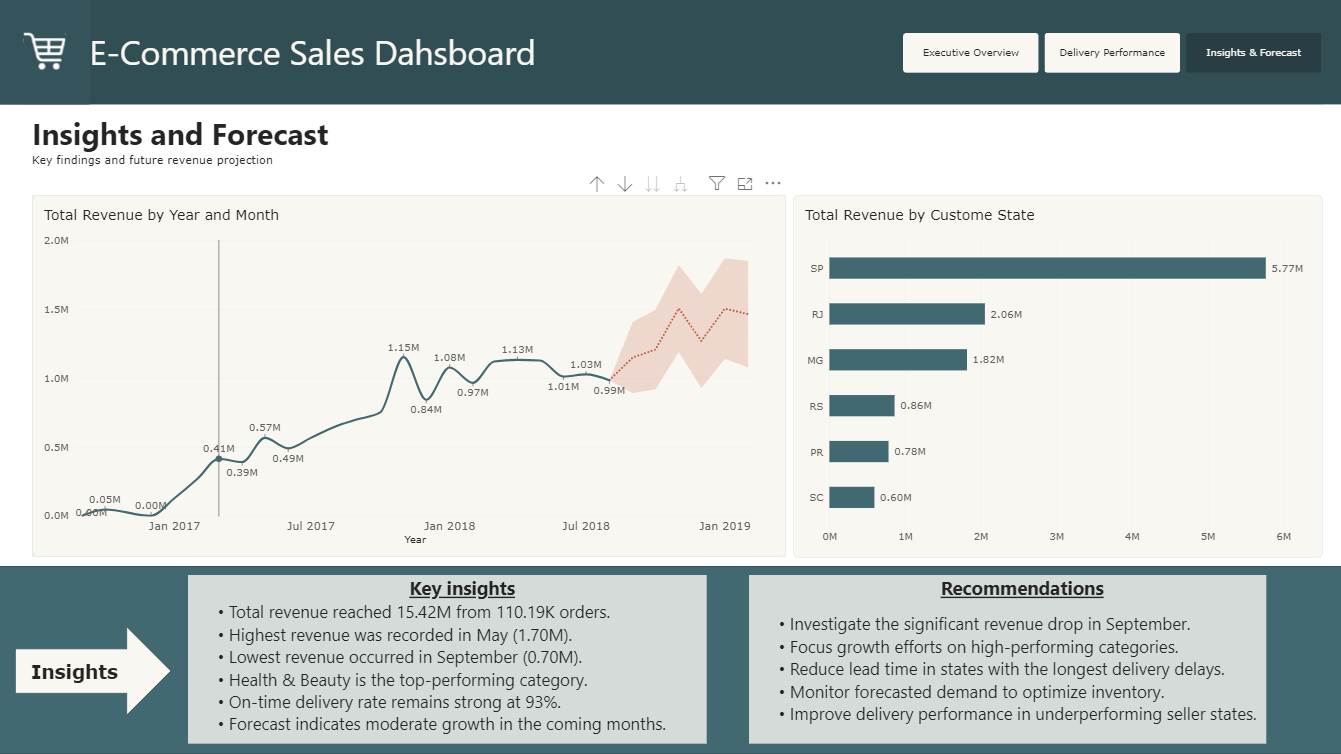

What the dashboard file says about the page in this screenshot:
{"tool":"powerbi","page":{"name":"Insights & Forecast","canvas":[1920,1080],"ordinal":2},"visuals":[{"type":"group","id":"g1","title":"Group 1","box":[0,0,1920,269.7],"z":0},{"type":"pageNavigator","box":[1291.4,50,600,57.1],"z":1000},{"type":"lineChart","fields":{"Category":["DateTable.Date.Variation.Date Hierarchy.Year","DateTable.Date.Variation.Date Hierarchy.Month"],"Y":["olist_supply_chain_cleaned.Total Revenue"]},"box":[46.6,281.4,1077,517.4],"z":2000},{"type":"clusteredBarChart","title":"Total Revenue by Custome State","fields":{"Category":["olist_supply_chain_cleaned.customer_state"],"Y":["olist_supply_chain_cleaned.Total Revenue"]},"box":[1133.7,281.4,757.4,517.8],"z":3000},{"type":"shape","box":[0,812.1,1920,268.5],"z":4000},{"type":"group","id":"g2","title":"Group 2","box":[0,0,1920,269.7],"z":4002,"group":"g1"},{"type":"textbox","box":[270,824.3,741.4,241.4],"z":5000},{"type":"textbox","box":[1071.4,824.3,738.6,241.4],"z":6000},{"type":"shape","box":[0,0,1920,151.8],"z":7000,"group":"g2"},{"type":"shape","box":[22.5,897.3,223.5,128.6],"z":7000},{"type":"textbox","box":[45,945.5,201,41.8],"z":9000},{"type":"textbox","box":[784.7,181.7,287.8,35.4],"z":10000},{"type":"actionButton","box":[0,0,130,152.3],"z":11000,"group":"g1"},{"type":"textbox","box":[46.6,164,583.5,105.6],"z":15001,"group":"g2"}]}

Visuals, with their boxes in screenshot pixels (x1, y1, x2, y2), scaled from the page's 1920x1080 canvas onto the 1341x754 screenshot:
"Group 1" group: [0,0,1340,188]
pageNavigator: [902,35,1321,75]
lineChart - DateTable.Date.Variation.Date Hierarchy.Year x DateTable.Date.Variation.Date Hierarchy.Month: [33,196,785,558]
"Total Revenue by Custome State" clusteredBarChart: [792,196,1321,558]
shape: [0,567,1340,753]
"Group 2" group: [0,0,1340,188]
textbox: [189,575,706,744]
textbox: [748,575,1264,744]
shape: [0,0,1340,106]
shape: [16,626,172,716]
textbox: [31,660,172,689]
textbox: [548,127,749,152]
actionButton: [0,0,91,106]
textbox: [33,114,440,188]
